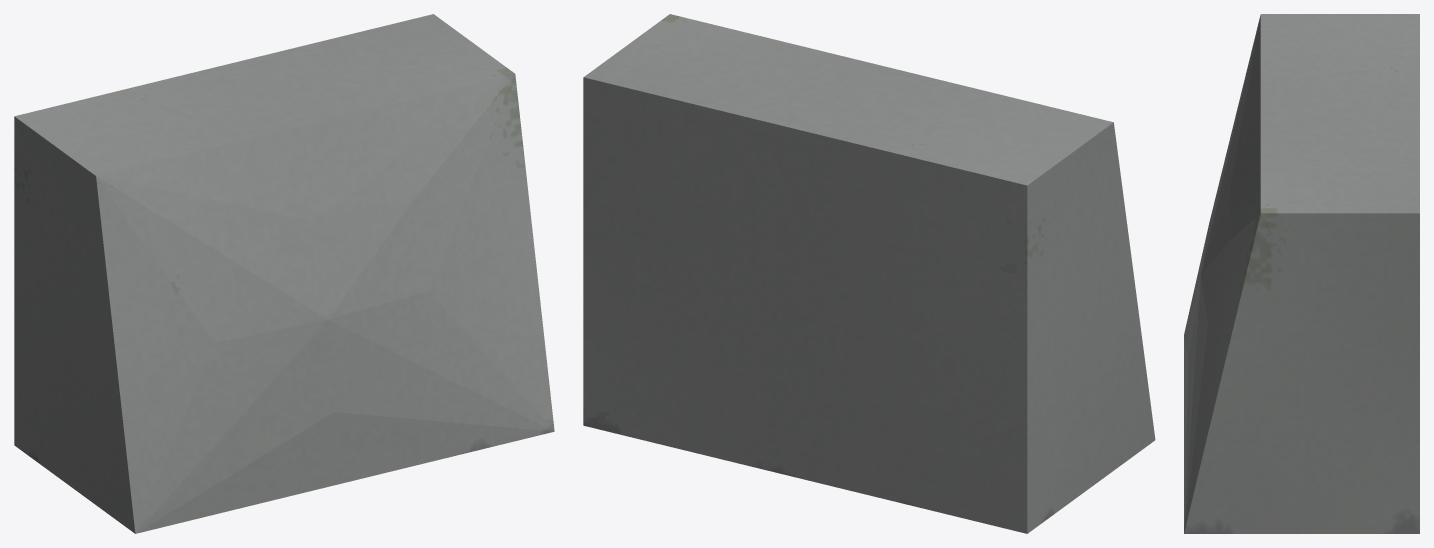
File: hills_cliff_wedge_straight.glb
3 renders of one model, left to right at view 1: azimuth 30°, elevation 25°; view 2: azimuth 150°, elevation 25°; view 3: azimuth 270°, elevation 25°, orthographic. The views are drawn at different scales.
Parts seen in each view (by area): view 1: CliffWedgeStraight; view 2: CliffWedgeStraight; view 3: CliffWedgeStraight.
Boxes of the visible parts, bbox=[...] form: CliffWedgeStraight: bbox=[14, 14, 554, 533]; CliffWedgeStraight: bbox=[583, 14, 1155, 533]; CliffWedgeStraight: bbox=[1184, 14, 1419, 533].
Size of what is drawn, in the model's own units: 4 by 3 by 2.
Materials: 1 (1 with a texture image).
